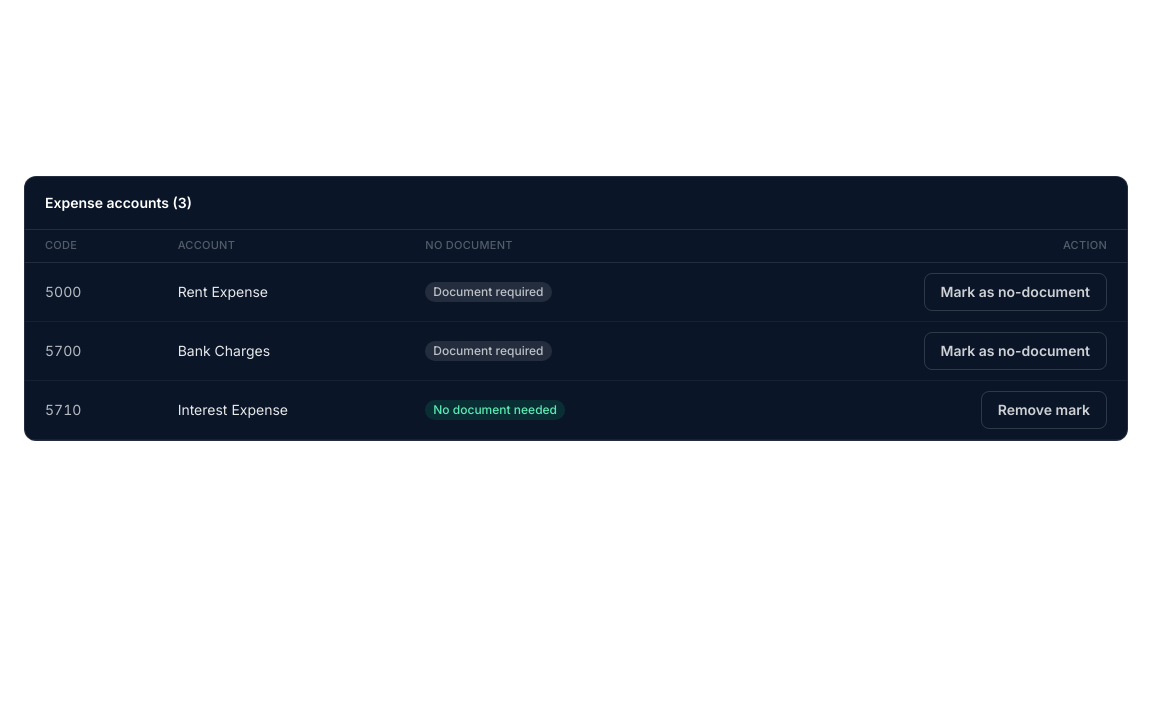
Test: a client's no-document accounts › says nothing changed when the server says so
Click the button "Mark as no-document" in the row of "5700".
click(1015, 351)  # box [924,332,1107,370]
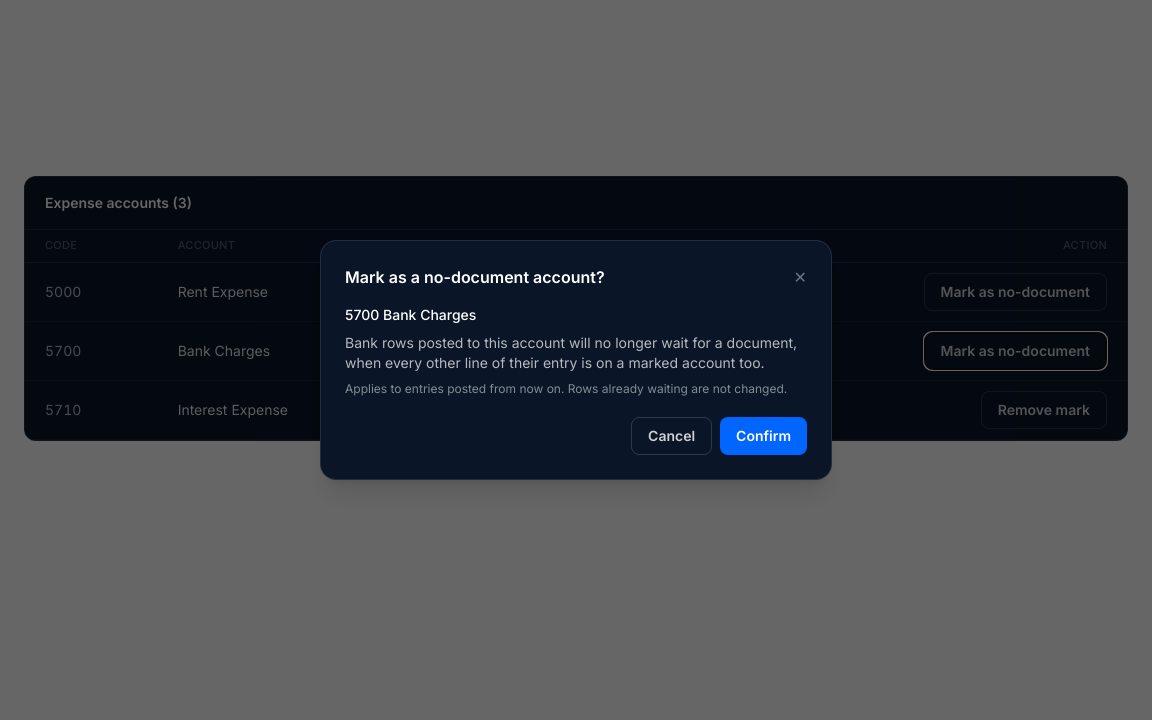
Click the button "Confirm".
click(764, 436)  # box [720,417,807,455]
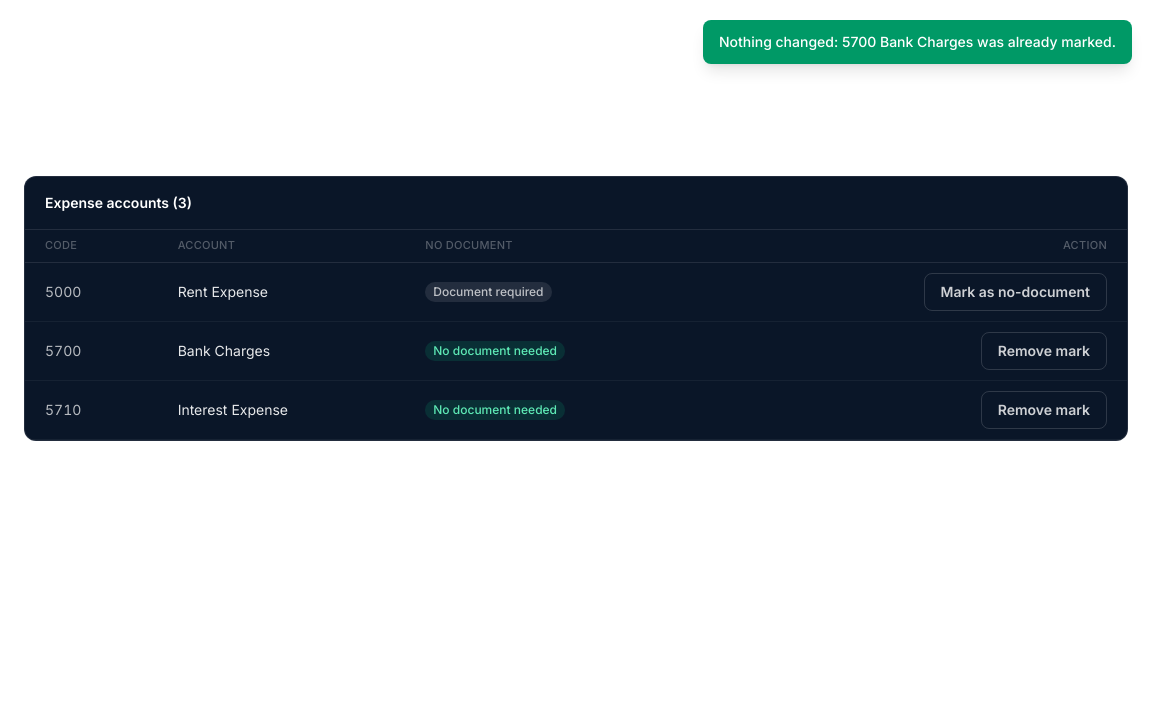
Check: the text "Nothing changed: 5700 Bank Charges was already marked." is shown, box [703,20,1132,64]
Check: the 1st text "No document needed" is shown, box [425,341,565,361]
